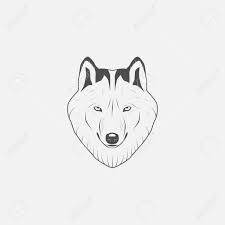Lobo: (52, 52, 169, 173)
